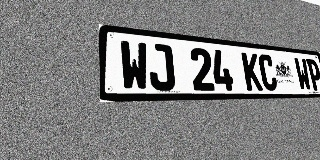2: (189, 47, 215, 91)
4: (210, 49, 234, 91)
C: (257, 54, 278, 91)
J: (147, 43, 176, 91)
K: (241, 52, 263, 91)
P: (306, 59, 320, 91)
W: (119, 40, 150, 91), (294, 57, 312, 91)
